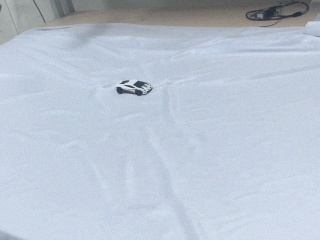toy_car: (116, 79, 152, 95)
